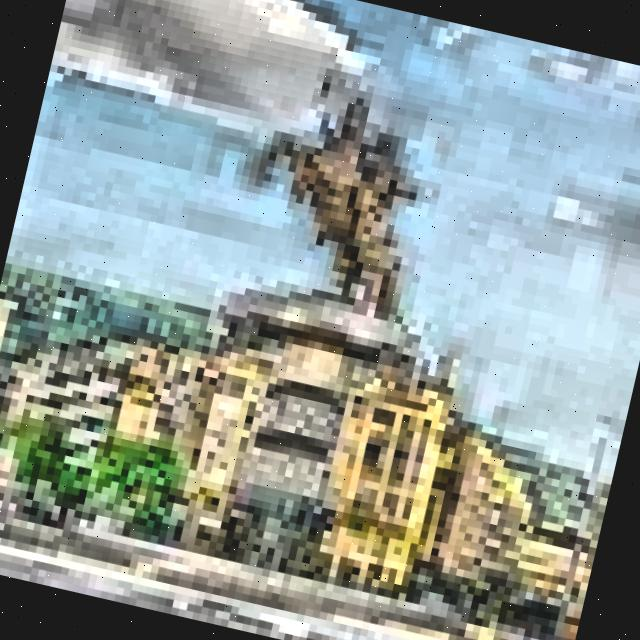alexander the great monument: (156, 56, 484, 596)
